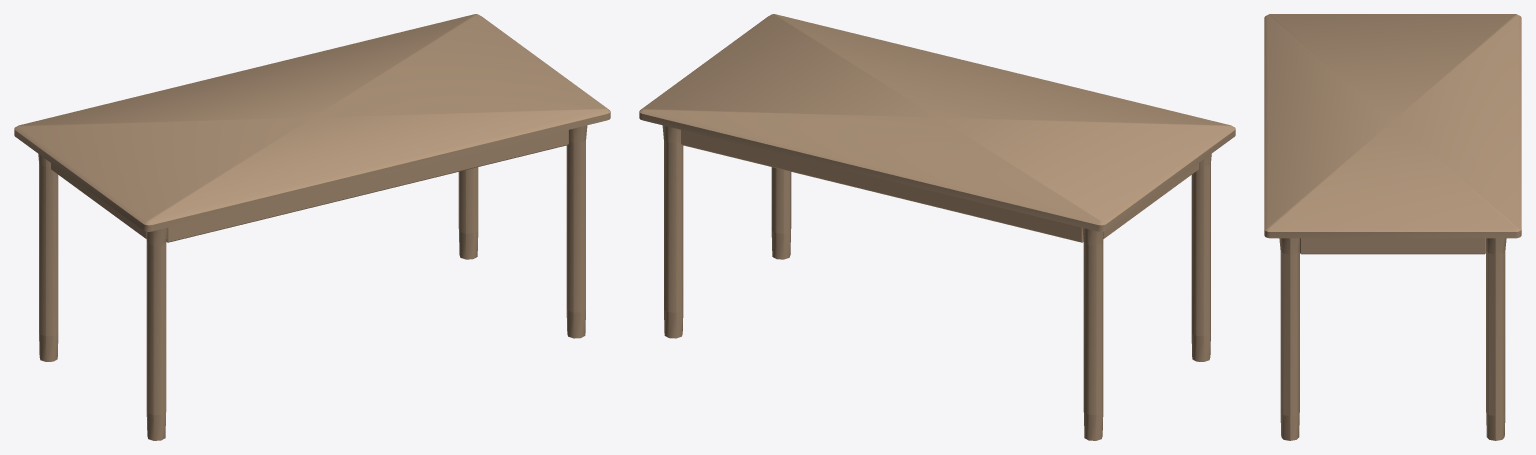
Rendered from restaurant-kitchen-and-dining-table-rect-6-5b979acc__16494.glb.
3 renders of one model, left to right at view 1: azimuth 30°, elevation 25°; view 2: azimuth 150°, elevation 25°; view 3: azimuth 270°, elevation 25°, orthographic. The views are drawn at different scales.
Visible parts, largest first — view 1: table-rect-6; view 2: table-rect-6; view 3: table-rect-6.
Part boxes in pixels (left/top/right/bottom): table-rect-6: left=14, top=14, right=610, bottom=440; table-rect-6: left=639, top=14, right=1235, bottom=440; table-rect-6: left=1264, top=14, right=1521, bottom=440.
Size of the model in its own units: 1.6 by 0.7501 by 0.8001.
